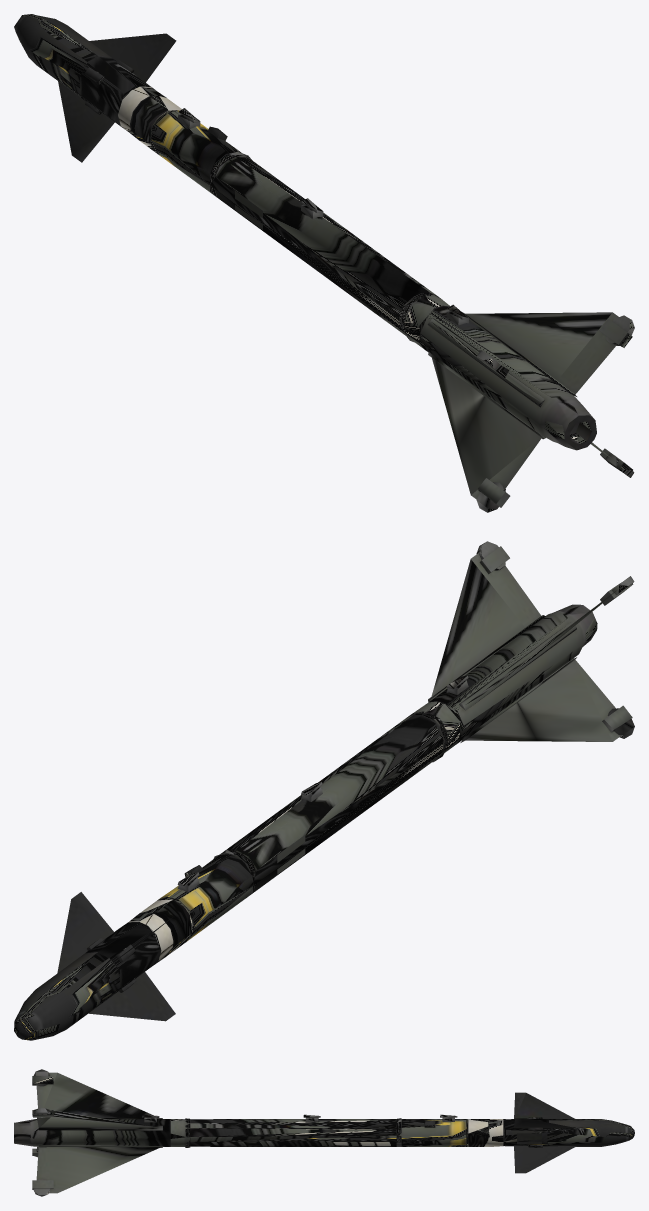
File: msl_chaparral_lo.glb
3 renders of one model, top to bottom at view 1: azimuth 30°, elevation 25°; view 2: azimuth 150°, elevation 25°; view 3: azimuth 270°, elevation 25°, orthographic. The views are drawn at different scales.
Visible parts, largest first — view 1: body|M72_atlas; view 2: body|M72_atlas; view 3: body|M72_atlas.
Part boxes in pixels (box(x1,y1,x2,y2)): body|M72_atlas: box(14, 14, 634, 512); body|M72_atlas: box(14, 541, 634, 1040); body|M72_atlas: box(14, 1069, 634, 1196).
Bounding box in the file's own units: 0.4568 × 0.4568 × 2.9.
Materials: 1 (1 with a texture image).
